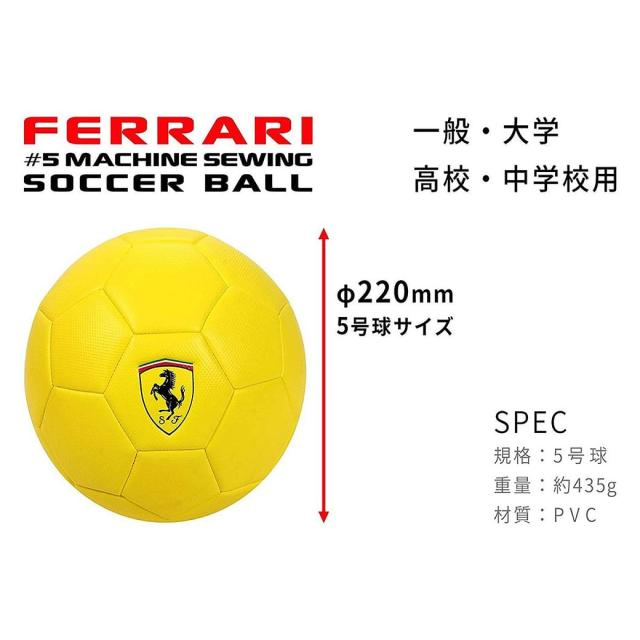soccer ball: (25, 227, 305, 523)
